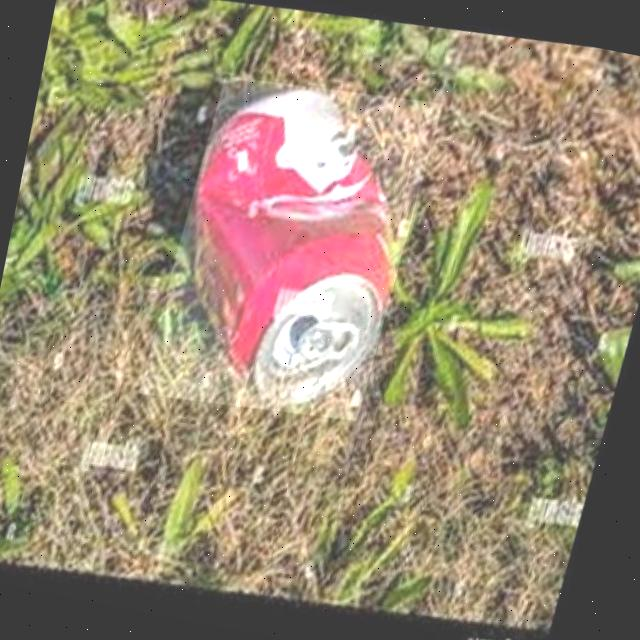trash: (147, 55, 446, 433)
